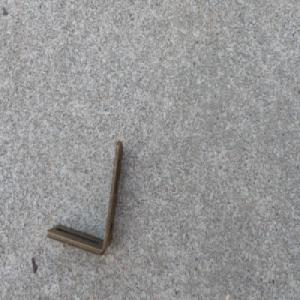MetalPart: (46, 139, 125, 258)
